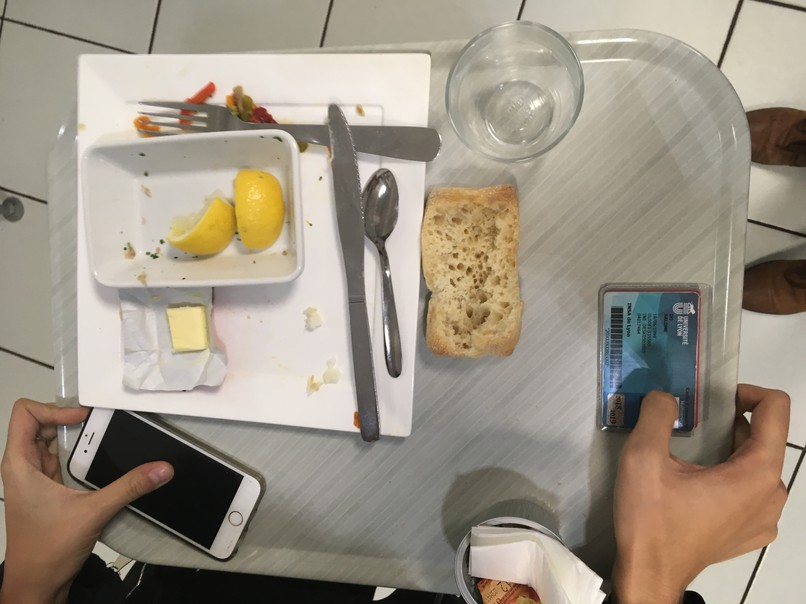orga: (423, 185, 530, 356), (165, 200, 240, 260), (234, 169, 285, 251), (227, 87, 280, 130)
trash: (112, 287, 231, 397), (472, 524, 604, 604), (474, 492, 562, 519), (451, 532, 468, 604)
